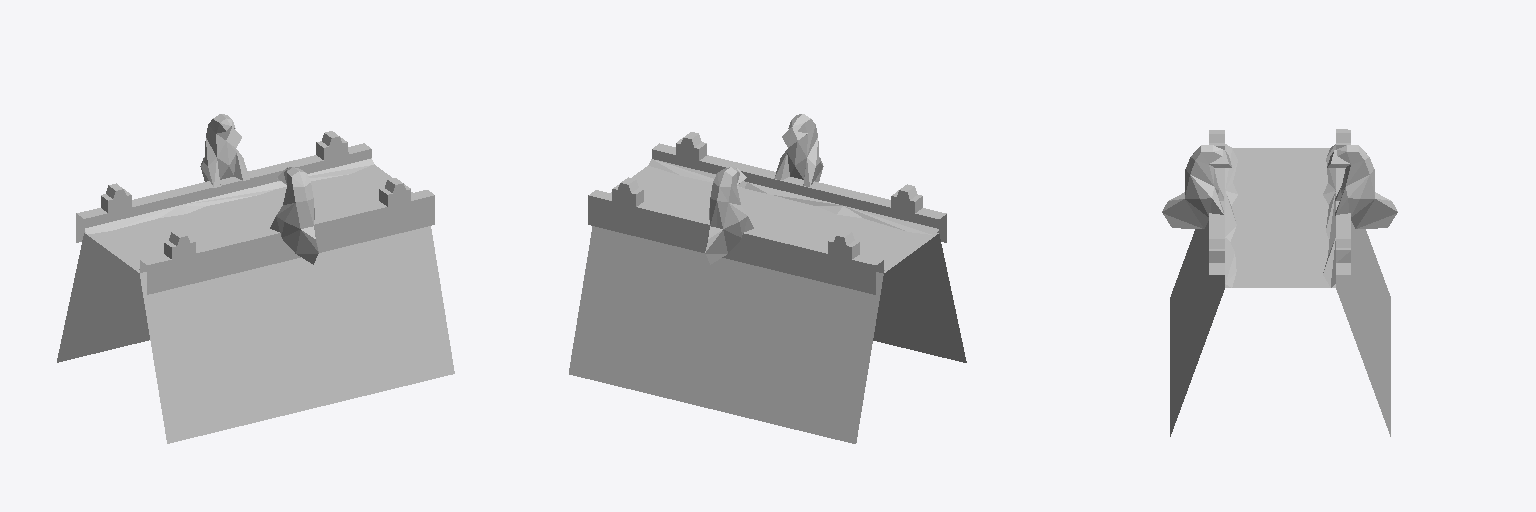
File: templeStraightFlameTowerHighHorz_prefab.obj
3 renders of one model, left to right at view 1: azimuth 30°, elevation 25°; view 2: azimuth 150°, elevation 25°; view 3: azimuth 270°, elevation 25°, orthographic.
Visible parts, largest first — view 1: Object69-Pivot; view 2: Object69-Pivot; view 3: Object69-Pivot.
Part boxes in pixels (left/top/right/bottom): Object69-Pivot: left=57, top=114, right=454, bottom=443; Object69-Pivot: left=569, top=114, right=966, bottom=443; Object69-Pivot: left=1162, top=129, right=1397, bottom=436.
Bounding box in the file's own units: 60 × 44.9 × 42.81.